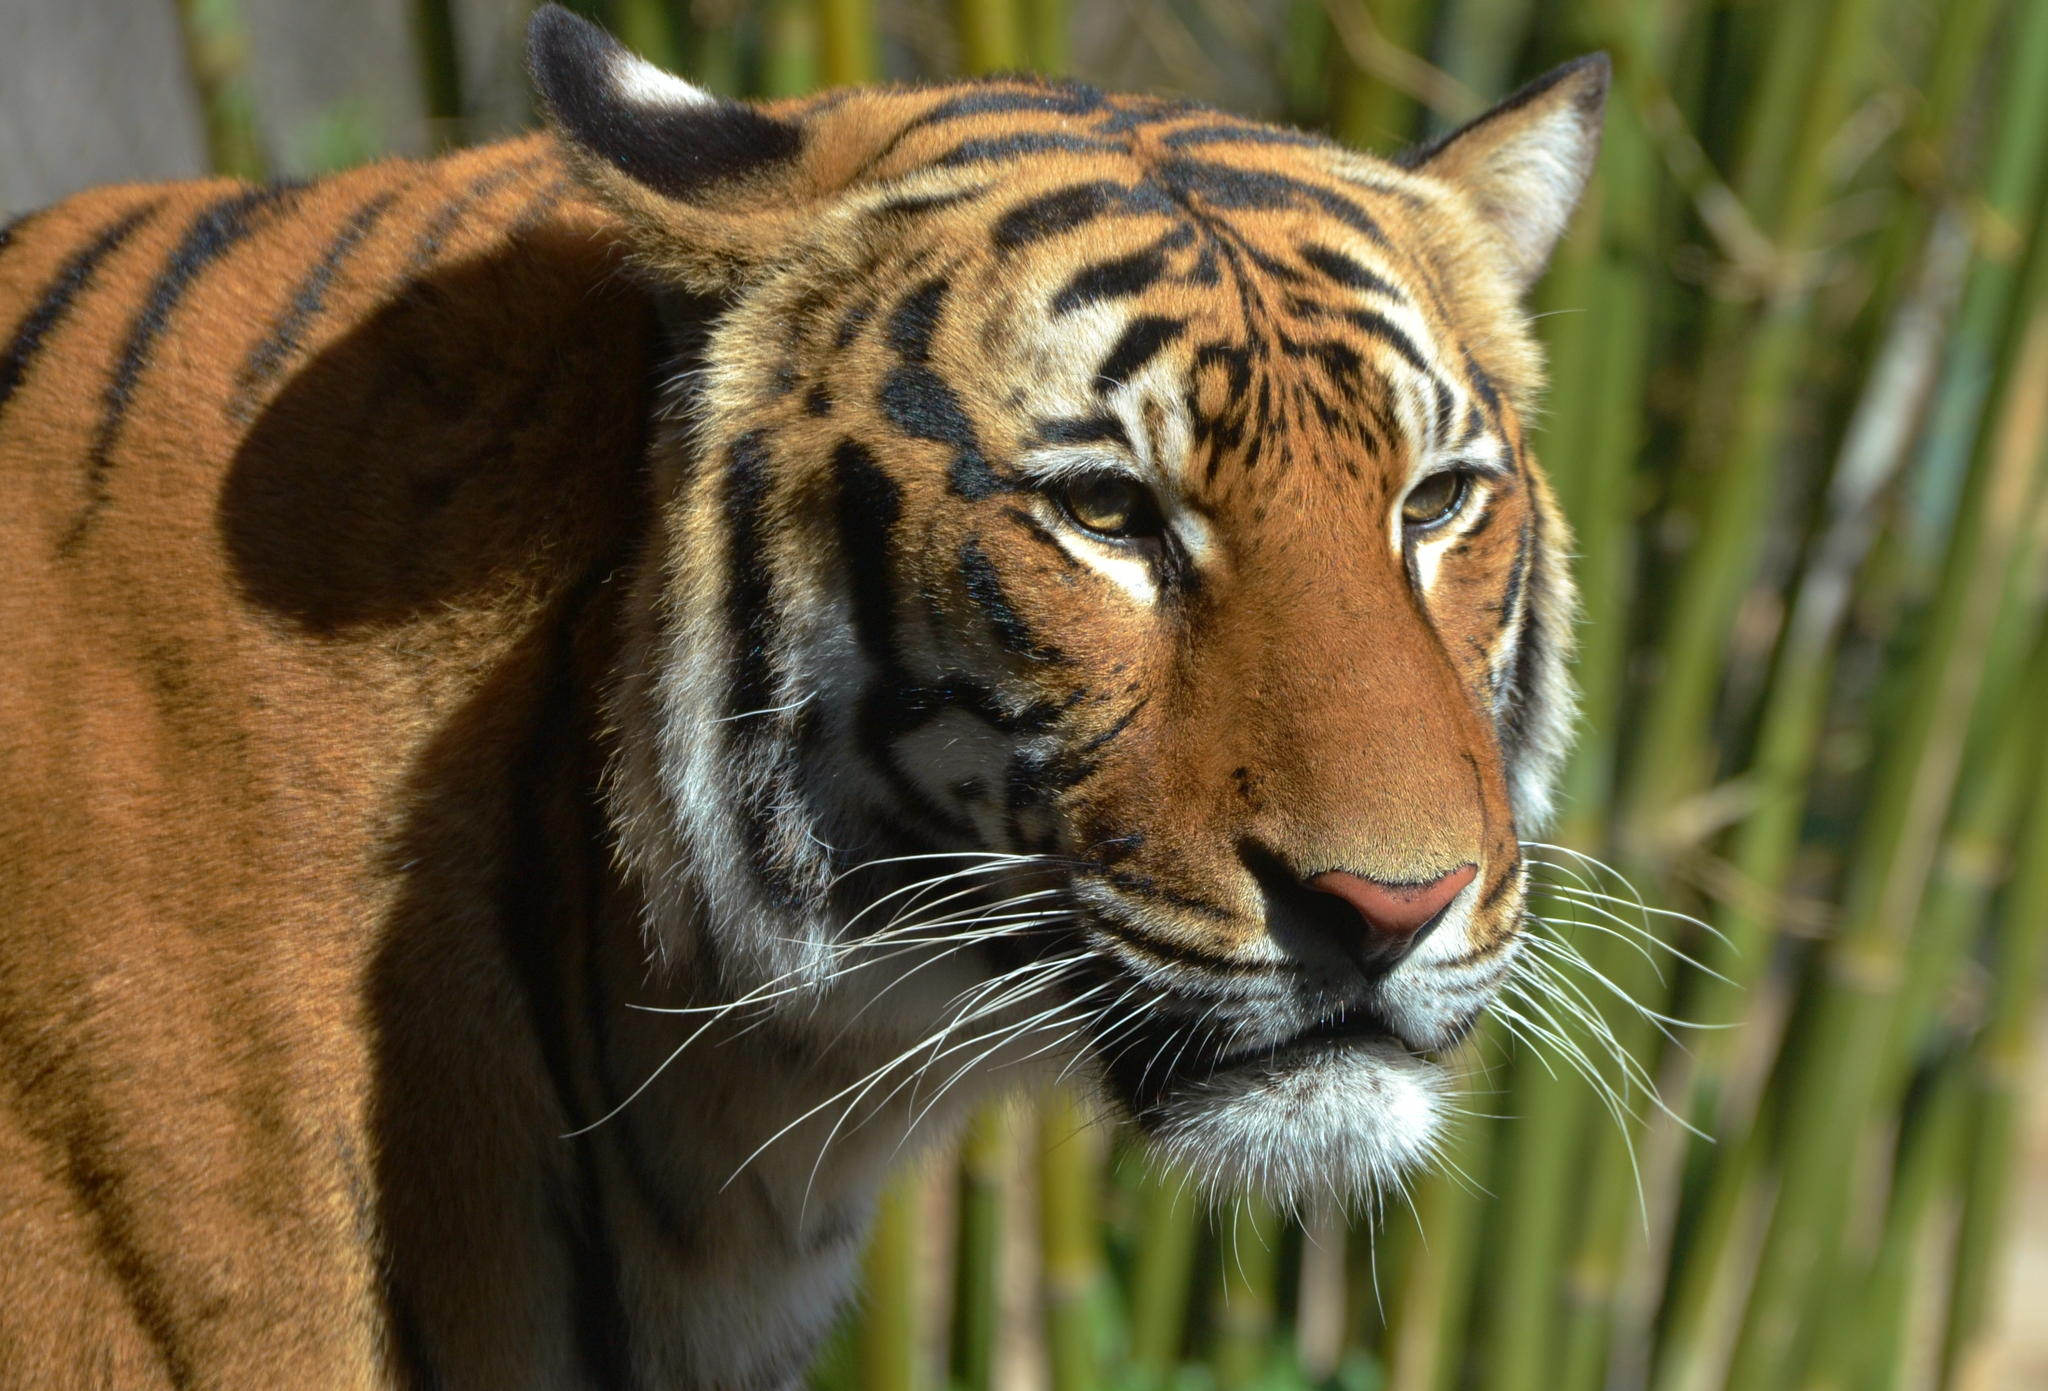tiger: (120, 33, 1637, 1265)
